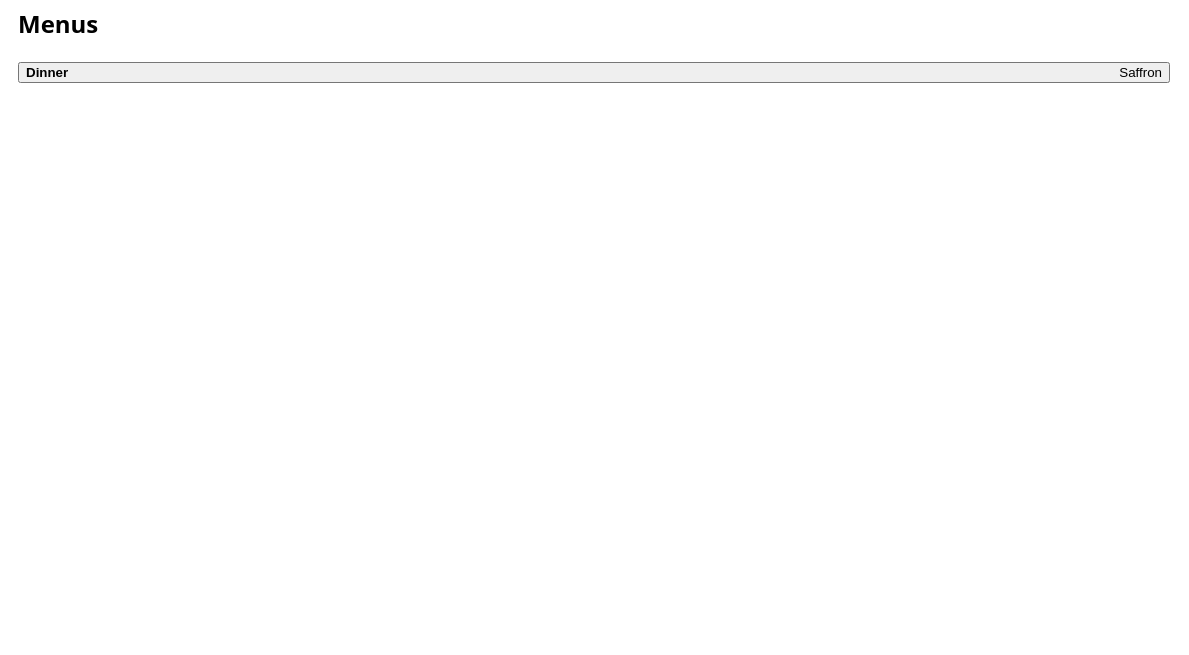
Test: MenusSection › marks an item sold out without resending the menu
Later steps or results of the test are not shown.
Click the button "Dinner Saffron" at (47, 72), box [18,62,1170,83]
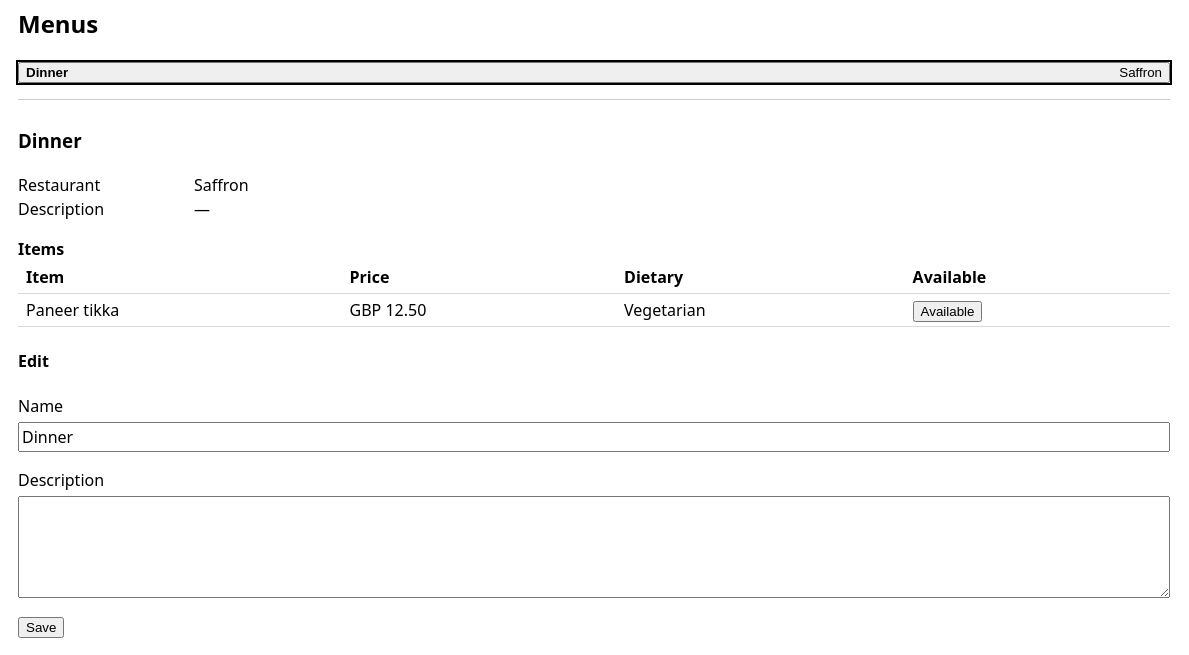
Check: the text "GBP 12.50" is shown, box [342,294,616,327]
